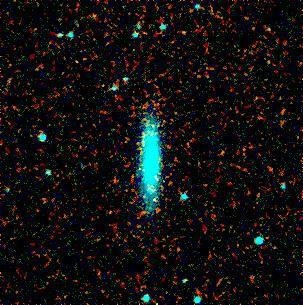star: (134, 186, 164, 216)
